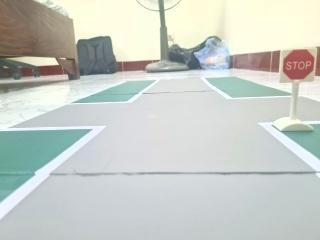stop: (277, 42, 317, 85)
